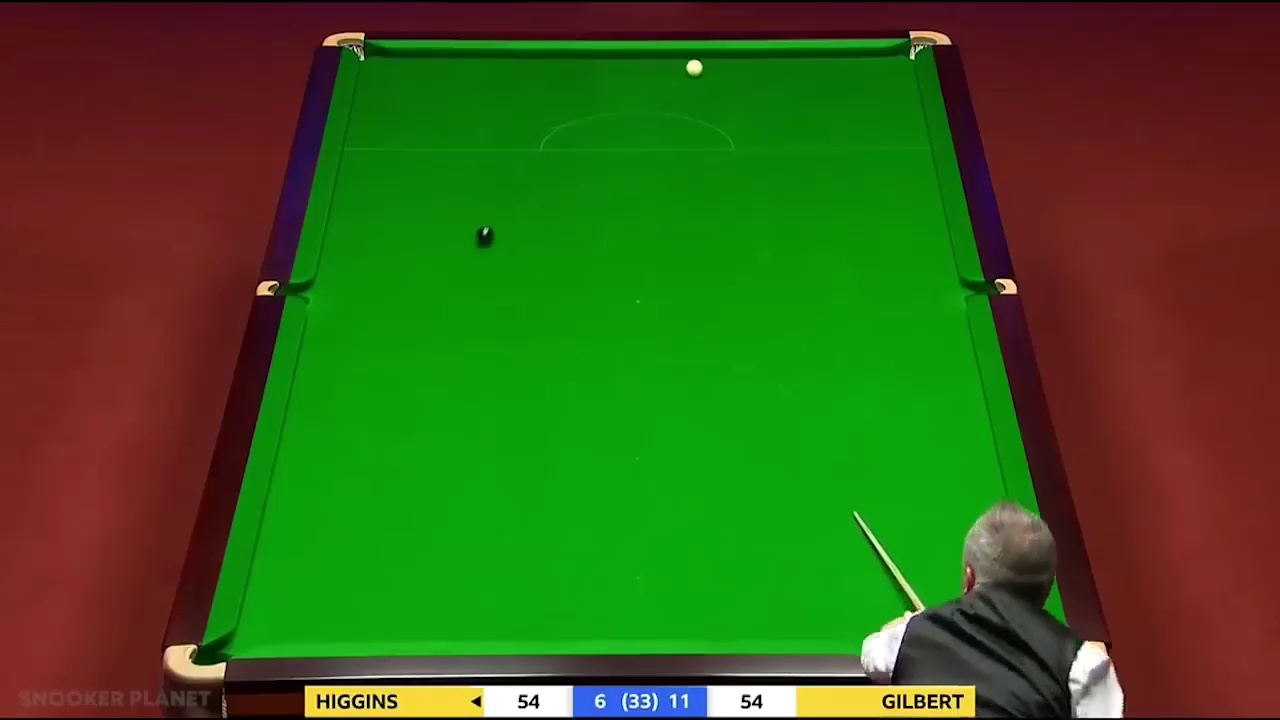ball: (684, 58, 708, 77)
